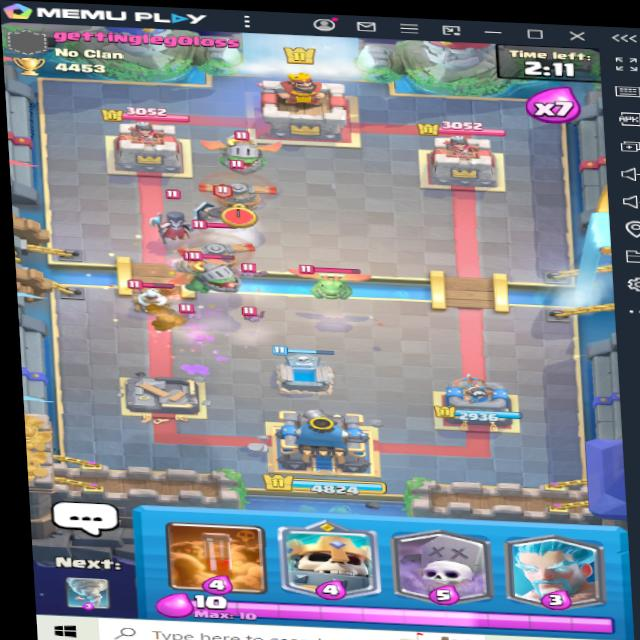baby-dragon: (298, 256, 376, 302)
bats: (233, 257, 276, 283), (238, 298, 265, 320)
dark-prince: (183, 187, 257, 245)
flying-machine: (172, 213, 247, 274), (205, 171, 274, 222)
inferno-dragon: (162, 244, 257, 299), (206, 126, 278, 178)
night-witch: (145, 185, 195, 240)
zappie: (126, 281, 178, 313)
